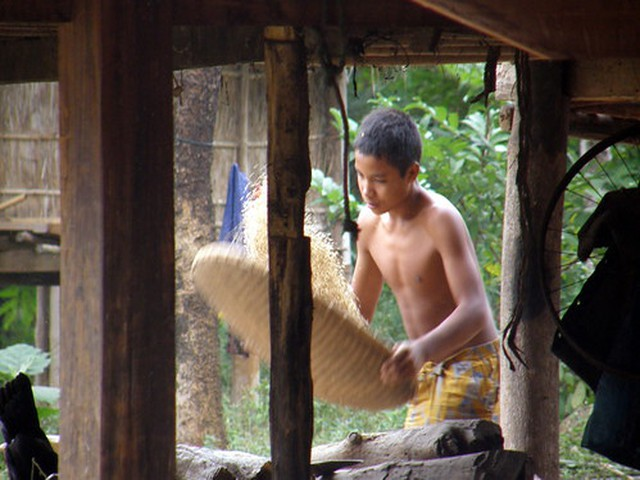Person: (352, 107, 500, 399)
